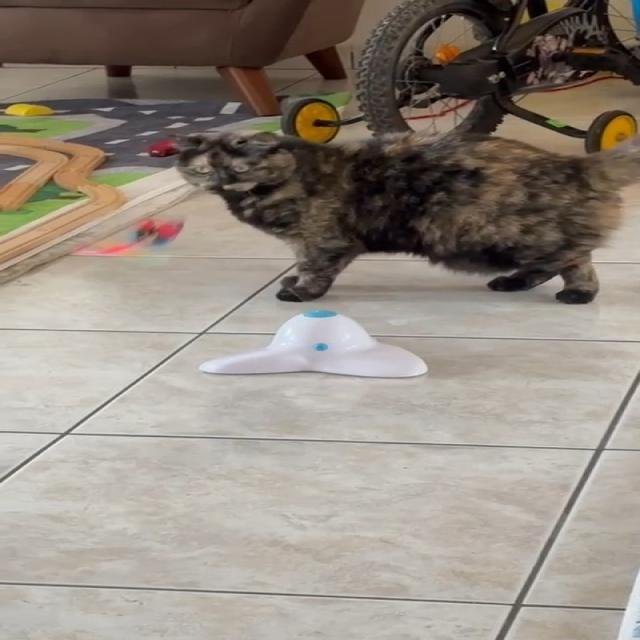authorized: (171, 125, 638, 304)
